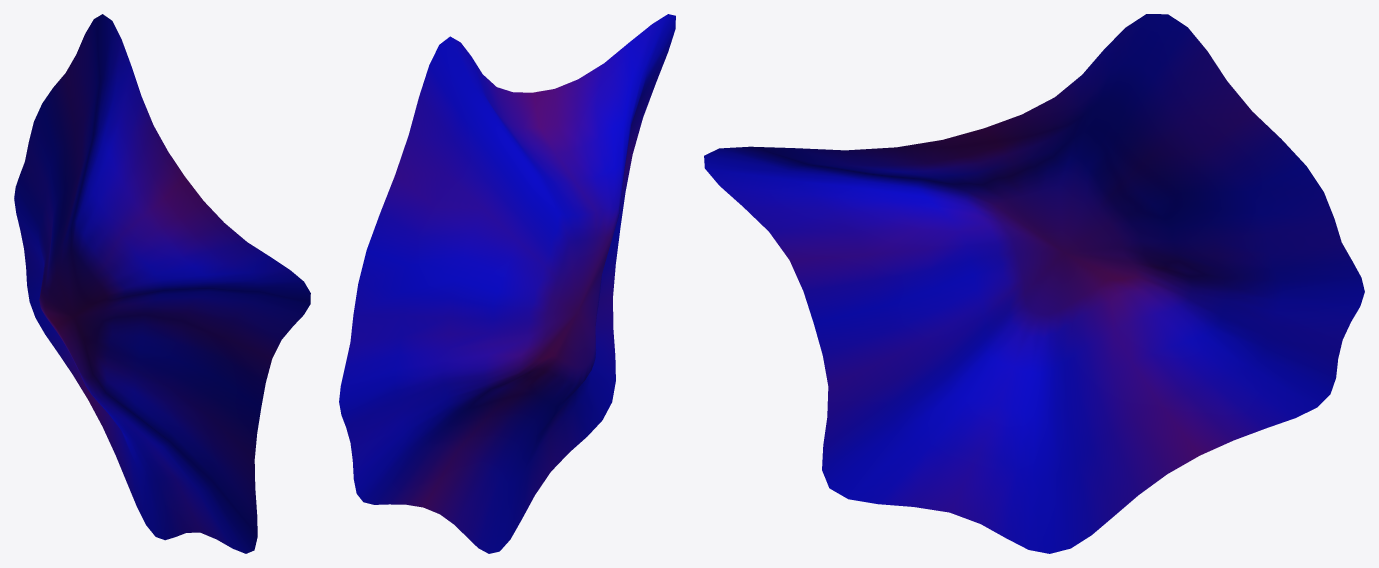
File: SM_Shadow_Portal_Inner.FBX
3 renders of one model, left to right at view 1: azimuth 30°, elevation 25°; view 2: azimuth 150°, elevation 25°; view 3: azimuth 270°, elevation 25°, orthographic. The views are drawn at different scales.
Parts seen in each view (by area): view 1: SM_Shadow_Portal_Inner; view 2: SM_Shadow_Portal_Inner; view 3: SM_Shadow_Portal_Inner.
Part boxes in pixels (x1,y1,x2,y2): SM_Shadow_Portal_Inner: (14,14,310,553); SM_Shadow_Portal_Inner: (339,14,675,553); SM_Shadow_Portal_Inner: (704,14,1364,553).
Bounding box in the file's own units: 8 × 53.34 × 48.09.
